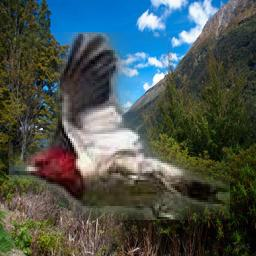Woodpecker: (10, 32, 231, 220)
